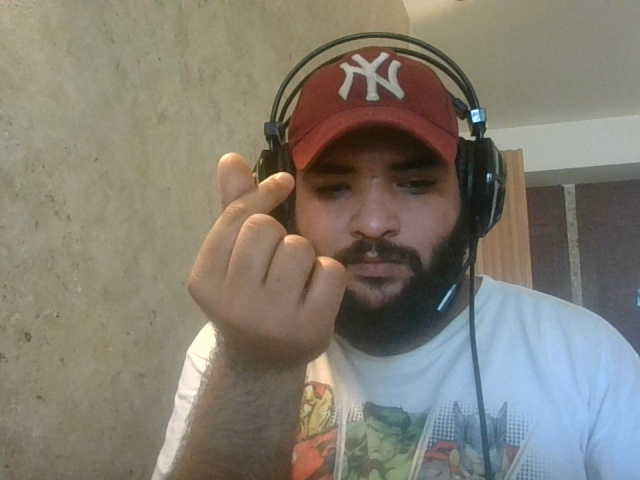iloveyou: (176, 152, 350, 367)
